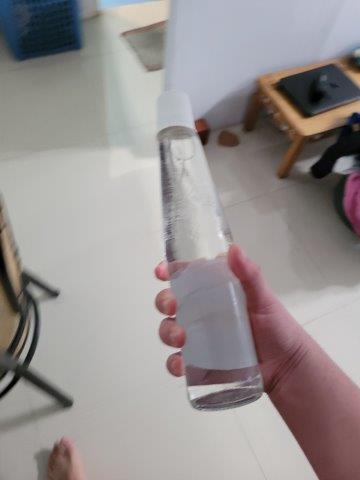botolkaca: (158, 90, 265, 411)
